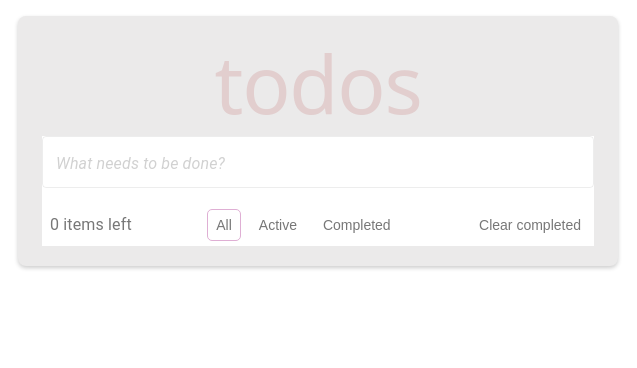
Scenario: очистка завершённых задач
This screenshot has width=637, height=368.
Type "Завершённая задача" into the field labelled "What needs to be done?" at x=318, y=162, box [42, 136, 594, 188]
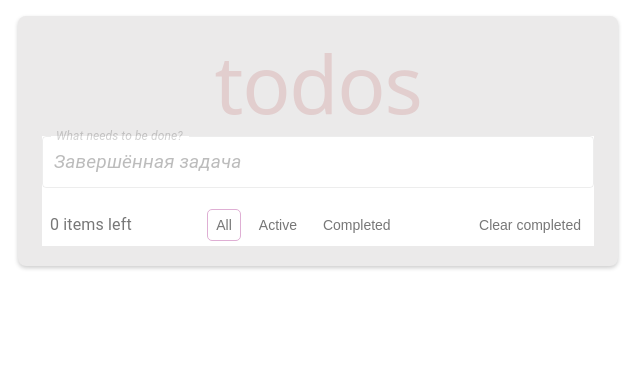
Submit the form from the field labelled "What needs to be done?", box [42, 136, 594, 188]
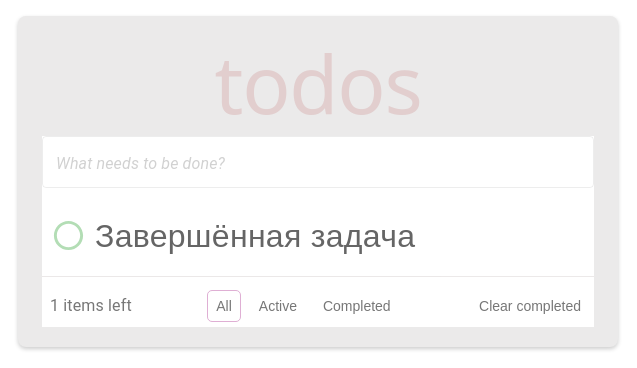
Click the checkbox at x=68, y=236, box [51, 218, 86, 253]
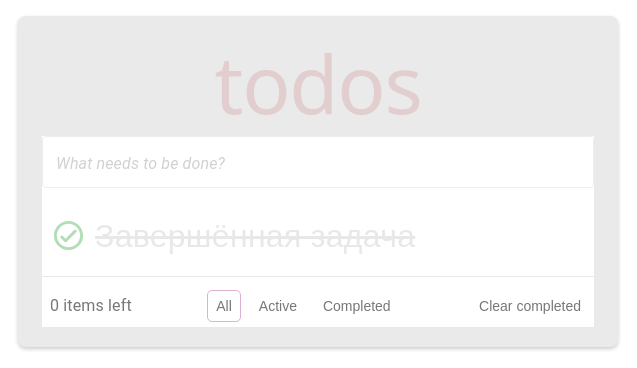
Click the button "Clear completed" at x=530, y=306, box [471, 291, 589, 321]
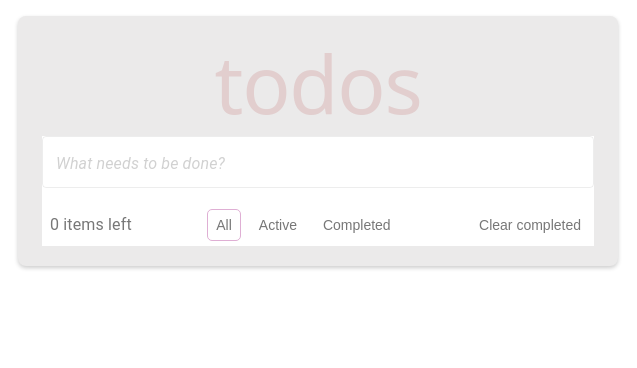
expect the text "Завершённая задача" is gone: met
